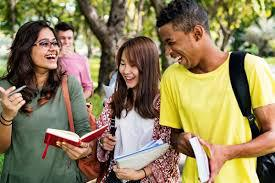Person: (154, 4, 269, 183), (4, 14, 84, 181), (103, 41, 162, 183)
